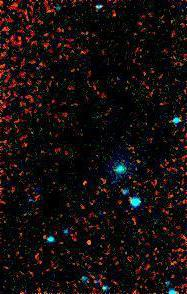star: (75, 227, 105, 257)
